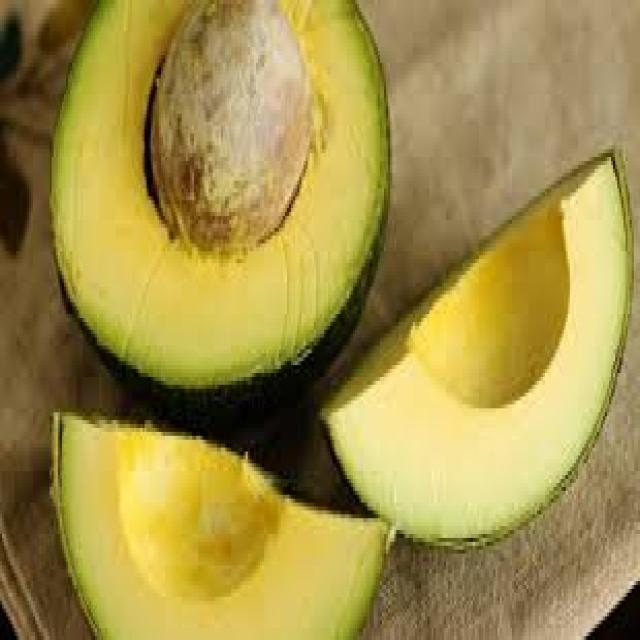avocado: (326, 114, 640, 538), (43, 0, 401, 363), (44, 390, 397, 640)
